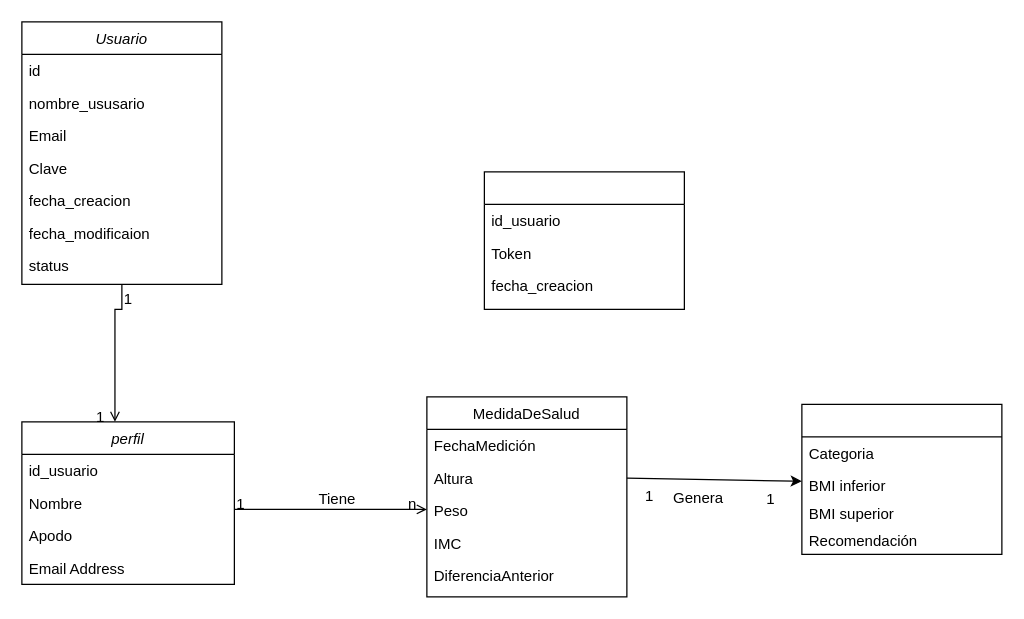
Some shapes in this 1024 by 619 pixel diagram are drawn without their labels. Here are the shapes that lost their labels. From the top down, the box of each, then its label:
(483, 171, 684, 309): reseteoPassword
(801, 403, 1002, 554): Diagnostico
